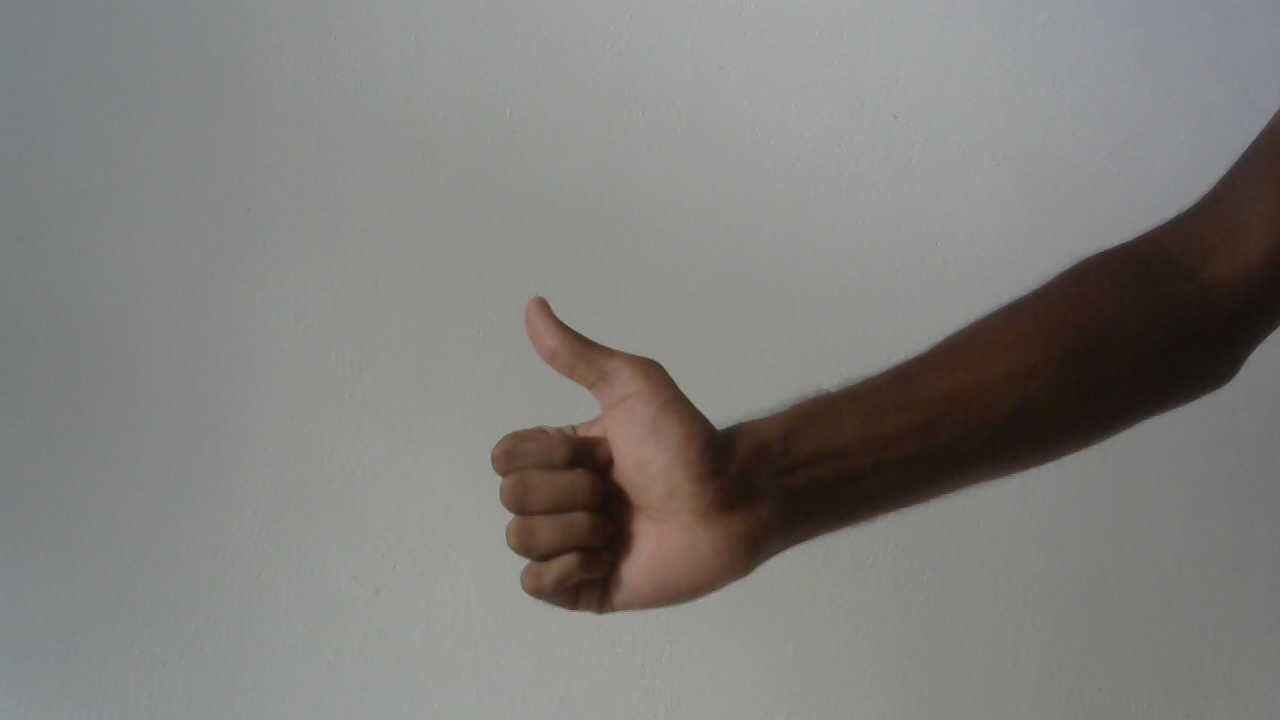thumbsup: (489, 284, 763, 647)
